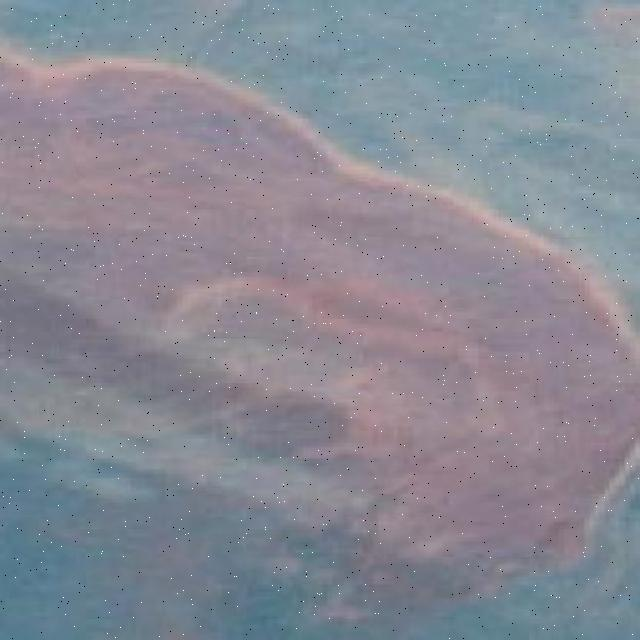oil: (4, 250, 640, 640), (5, 40, 555, 251)
